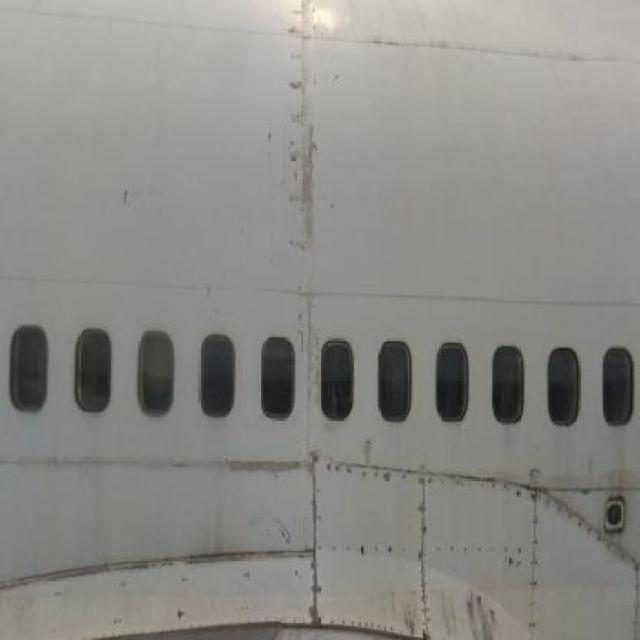Missing-Rivet: (267, 450, 565, 570), (276, 565, 435, 637), (520, 567, 557, 640)
Scartch: (276, 12, 339, 346), (448, 581, 500, 640)
